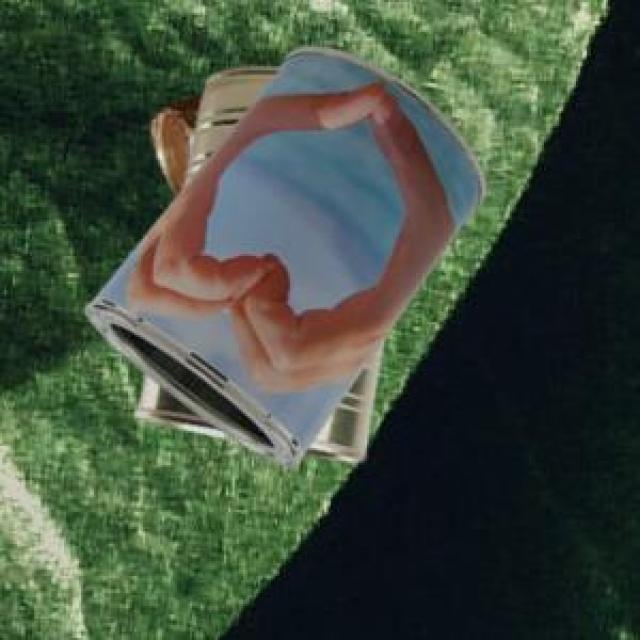Can: (82, 44, 483, 464), (131, 65, 380, 458), (148, 93, 198, 193)
